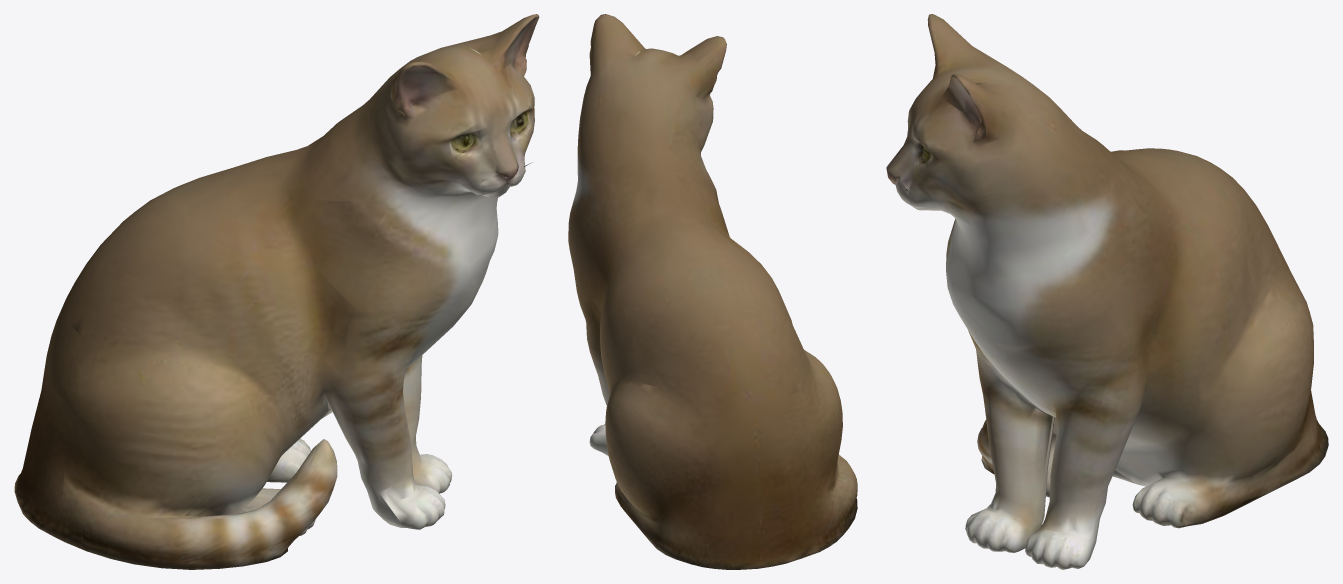
Rendered from cat-sit.glb.
3 views of the same model, side by side, from view 1: azimuth 30°, elevation 25°; view 2: azimuth 150°, elevation 25°; view 3: azimuth 270°, elevation 25° (orthographic). The views are drawn at different scales.
Parts seen in each view (by area): view 1: cat-sit; view 2: cat-sit; view 3: cat-sit.
Part boxes in pixels (left/top/right/bottom): cat-sit: left=14, top=14, right=539, bottom=569; cat-sit: left=568, top=14, right=857, bottom=569; cat-sit: left=886, top=14, right=1328, bottom=569.
Size of the model in its own units: 0.2713 by 0.3203 by 0.2475.
Materials: 1 (1 with a texture image).
